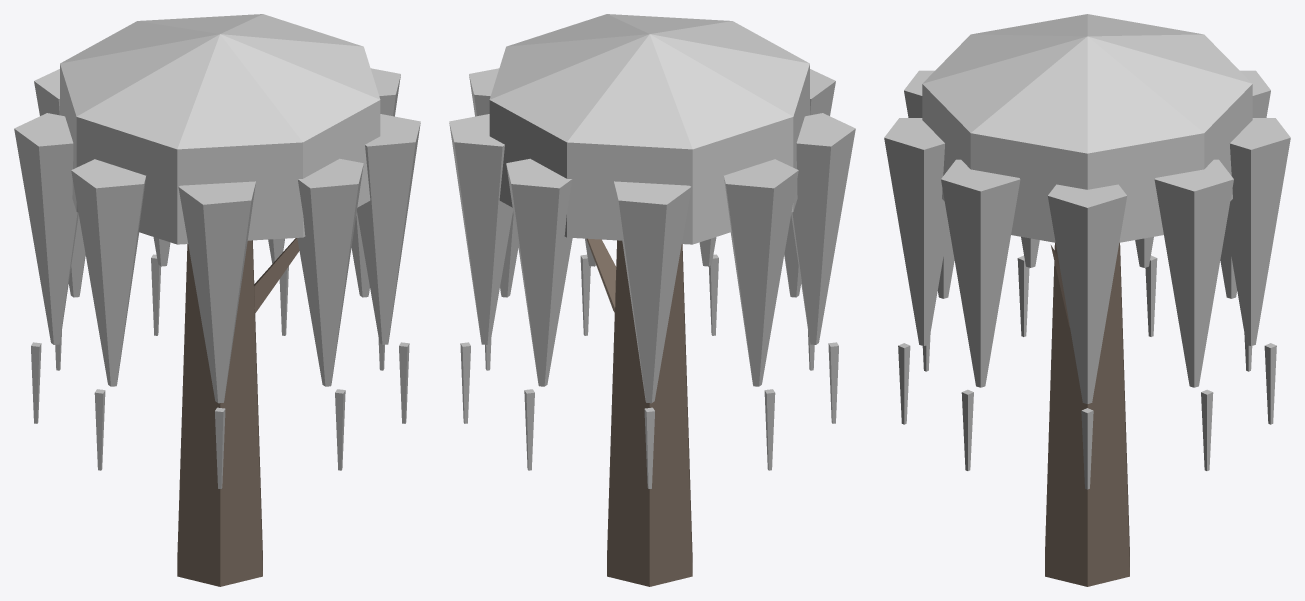
The model's file is prop_willow.glb.
3 views of the same model, side by side, from view 1: azimuth 30°, elevation 25°; view 2: azimuth 150°, elevation 25°; view 3: azimuth 270°, elevation 25° (orthographic).
Visible parts, largest first — view 1: tint, body; view 2: tint, body; view 3: tint, body.
Boxes of the visible parts, box(x1,y1,x2,y2) form: tint: box(14, 14, 420, 488); body: box(177, 238, 299, 586); tint: box(449, 14, 855, 488); body: box(586, 238, 692, 586); tint: box(884, 14, 1290, 489); body: box(1045, 242, 1129, 586).
Size of the model in its own units: 3.23 by 4.75 by 3.31.
